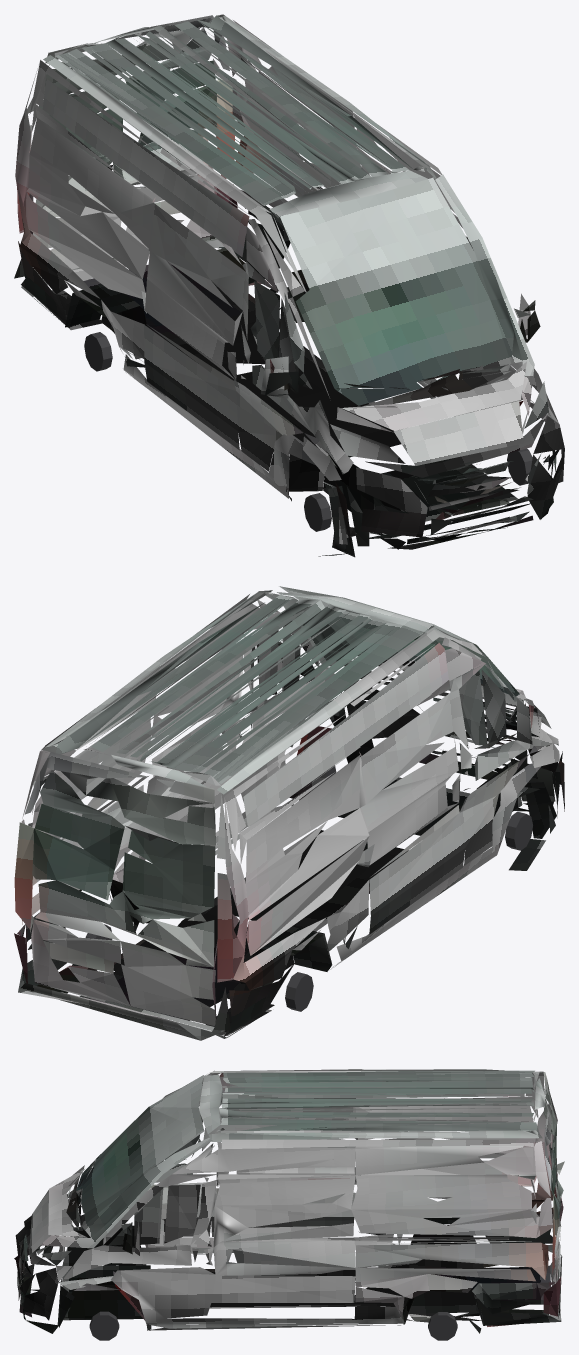
The model's file is transporter_f.glb.
3 renders of one model, top to bottom at view 1: azimuth 30°, elevation 25°; view 2: azimuth 150°, elevation 25°; view 3: azimuth 270°, elevation 25°, orthographic. The views are drawn at different scales.
Parts seen in each view (by area): view 1: karosserie, rad_hl; view 2: karosserie, rad_hl; view 3: karosserie, rad_hl.
Boxes of the visible parts, bbox=[...] form: karosserie: bbox=[14, 14, 564, 557]; rad_hl: bbox=[84, 287, 532, 531]; karosserie: bbox=[14, 586, 564, 1040]; rad_hl: bbox=[85, 765, 532, 1011]; karosserie: bbox=[14, 1069, 564, 1333]; rad_hl: bbox=[89, 1265, 457, 1340].
Size of the model in its own units: 2.63 by 2.74 by 6.03.
Materials: 2 (1 with a texture image).
